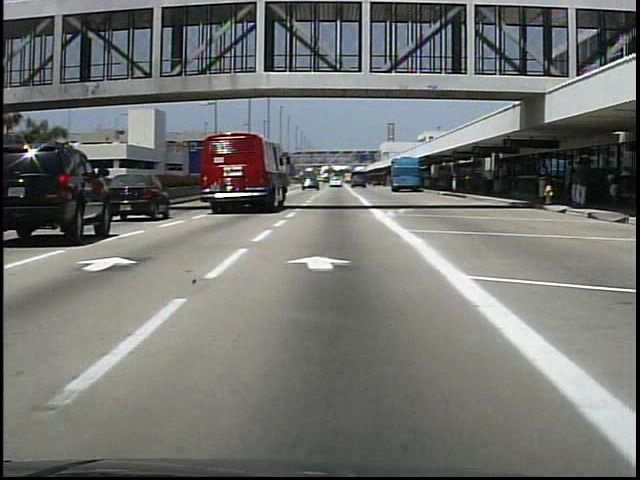person: (602, 168, 620, 212), (482, 166, 495, 193)
